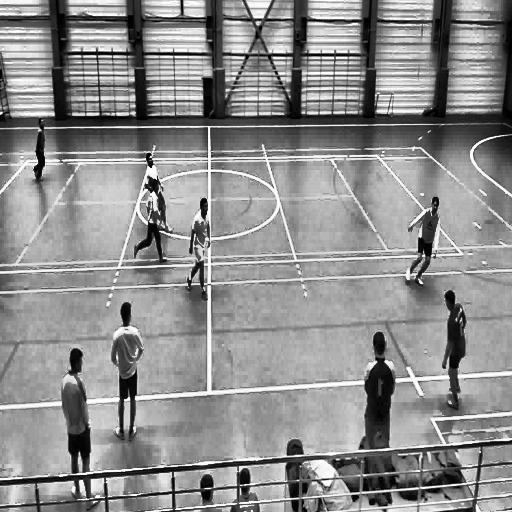player: (60, 345, 102, 512), (110, 300, 143, 444), (362, 330, 395, 442), (402, 198, 442, 290), (441, 286, 467, 411), (132, 179, 167, 266), (184, 198, 210, 304), (143, 152, 172, 234), (32, 115, 46, 184)
